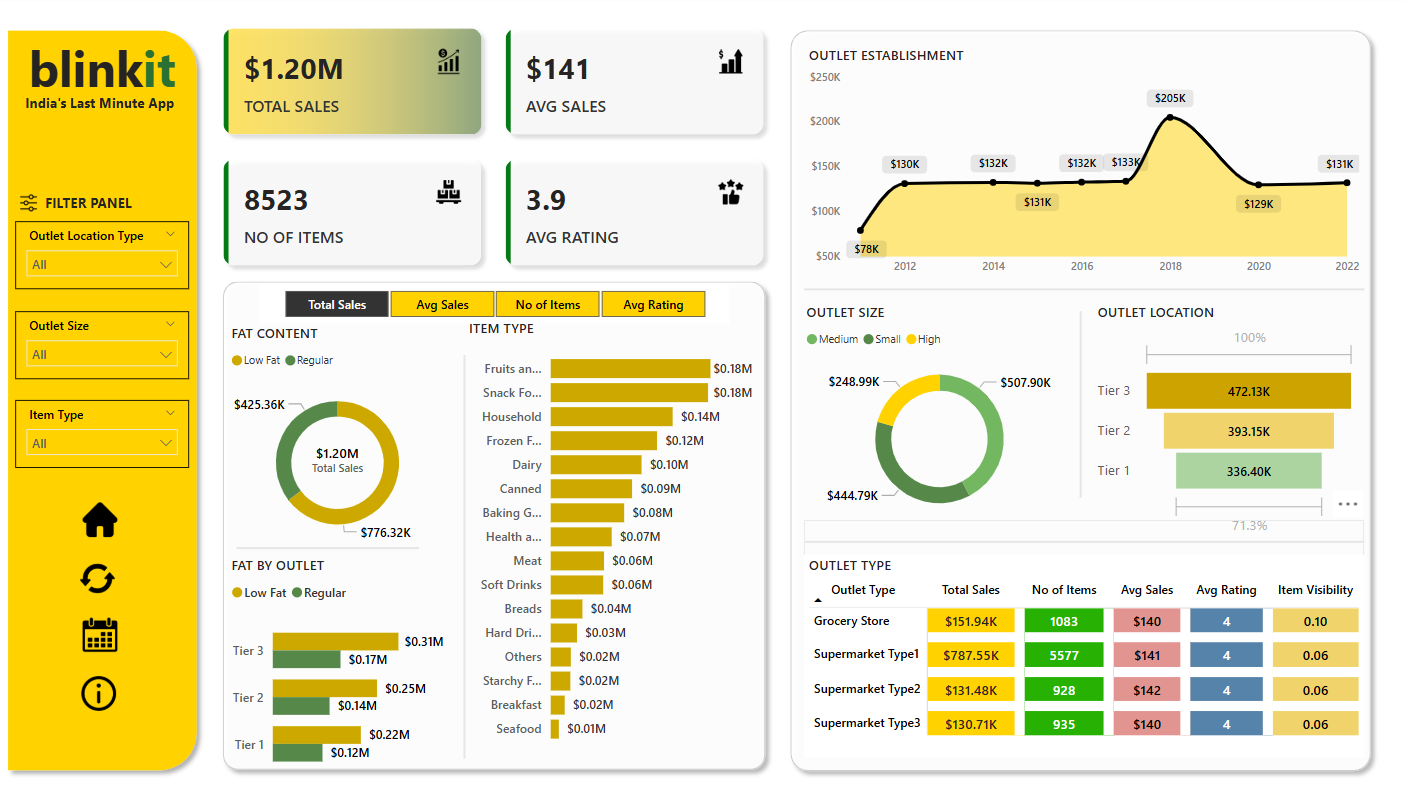

The dashboard page shown, as its layout file describes it:
{"tool":"powerbi","page":{"name":"Page 1","canvas":[1400,800],"ordinal":0},"visuals":[{"type":"shape","box":[0,25.4,204.8,750.4],"z":0},{"type":"textbox","box":[19.8,34.6,164.5,82.9],"z":1000},{"type":"textbox","box":[21.6,92.8,164.1,48.3],"z":2000},{"type":"cardVisual","fields":{"Data":["BlinkIT Grocery Data.Total Sales","BlinkIT Grocery Data.Avg Sales","BlinkIT Grocery Data.No of Items","BlinkIT Grocery Data.Avg Rating"]},"box":[204.8,16.5,569.8,269.6],"z":3000},{"type":"shape","box":[212.4,274.7,554.5,501.1],"z":4000},{"type":"donutChart","title":"FAT CONTENT","fields":{"Y":["BlinkIT Grocery Data.Total Sales"],"Category":["BlinkIT Grocery Data.Item Fat Content"]},"box":[225.1,325.6,220,230.2],"z":5000},{"type":"slicer","fields":{"Values":["Metrics.Metrics"]},"box":[256.9,286.2,465.5,39.4],"z":6000},{"type":"cardVisual","fields":{"Data":["BlinkIT Grocery Data.Total Sales"]},"box":[284.9,427.3,101.7,63.6],"z":7000},{"type":"clusteredBarChart","title":"FAT BY OUTLET","fields":{"Y":["BlinkIT Grocery Data.Total Sales"],"Category":["BlinkIT Grocery Data.Outlet Location Type"],"Series":["BlinkIT Grocery Data.Item Fat Content"]},"box":[225.1,554.1,220.2,230.1],"z":8000},{"type":"shape","box":[235.3,525.3,180.6,43.2],"z":9000},{"type":"shape","box":[445.1,356.1,30.5,399.3],"z":10000},{"type":"barChart","title":"ITEM TYPE","fields":{"Y":["BlinkIT Grocery Data.Total Sales"],"Category":["BlinkIT Grocery Data.Item Type"]},"box":[460.1,320.3,290.7,430.4],"z":11000},{"type":"shape","box":[774.5,25.4,592,751],"z":12000},{"type":"lineChart","title":"OUTLET ESTABLISHMENT","fields":{"Y":["BlinkIT Grocery Data.Total Sales"],"Category":["BlinkIT Grocery Data.Outlet Establishment Year"]},"box":[796.2,49.6,554.5,236.6],"z":13000},{"type":"shape","box":[796.2,269.6,554.5,43.2],"z":14000},{"type":"donutChart","title":"OUTLET SIZE","fields":{"Y":["BlinkIT Grocery Data.Total Sales"],"Category":["BlinkIT Grocery Data.Outlet Size"]},"box":[793.6,303.7,273.4,225.1],"z":15000},{"type":"shape","box":[1055.6,312.9,30.5,184.4],"z":16000},{"type":"funnel","title":"OUTLET LOCATION","fields":{"Y":["Sum(BlinkIT Grocery Data.Sales)"],"Category":["BlinkIT Grocery Data.Outlet Location Type"]},"box":[1082.3,303.7,265.8,236.6],"z":17000},{"type":"shape","box":[796.2,518.9,554.5,43.2],"z":18000},{"type":"pivotTable","title":"OUTLET TYPE","fields":{"Rows":["BlinkIT Grocery Data.Outlet Type"],"Values":["BlinkIT Grocery Data.Total Sales","BlinkIT Grocery Data.No of Items","BlinkIT Grocery Data.Avg Sales","BlinkIT Grocery Data.Avg Rating","Avg(BlinkIT Grocery Data.Item Visibility)"]},"box":[796.2,554.5,554.5,200.9],"z":19000},{"type":"slicer","fields":{"Values":["BlinkIT Grocery Data.Outlet Location Type"]},"box":[16.5,223.8,171.7,67.4],"z":20000},{"type":"slicer","fields":{"Values":["BlinkIT Grocery Data.Outlet Size"]},"box":[16.5,312.9,171.7,67.4],"z":21000},{"type":"slicer","fields":{"Values":["BlinkIT Grocery Data.Item Type"]},"box":[16.5,400.6,171.7,67.4],"z":22000},{"type":"textbox","box":[40.7,192,114.5,30.5],"z":23000},{"type":"image","box":[16.5,192,26.7,28],"z":24000},{"type":"image","box":[77.6,497.3,44.5,44.5],"z":25000},{"type":"image","box":[75,555.8,44.5,44.5],"z":26000},{"type":"image","box":[77.6,610.5,44.5,44.5],"z":27000},{"type":"image","box":[76.3,669,44.5,44.5],"z":28000}]}

Visuals, with their boxes in screenshot pixels (x1, y1, x2, y2), scaled from the page's 1400x800 canvas onto the 1407x795 screenshot:
shape: [left=0, top=25, right=206, bottom=771]
textbox: [left=20, top=34, right=185, bottom=117]
textbox: [left=22, top=92, right=187, bottom=140]
cardVisual - BlinkIT Grocery Data.Total Sales x BlinkIT Grocery Data.Avg Sales: [left=206, top=16, right=778, bottom=284]
shape: [left=213, top=273, right=771, bottom=771]
"FAT CONTENT" donutChart: [left=226, top=324, right=447, bottom=552]
slicer - Metrics.Metrics: [left=258, top=284, right=726, bottom=324]
cardVisual - BlinkIT Grocery Data.Total Sales: [left=286, top=425, right=389, bottom=488]
"FAT BY OUTLET" clusteredBarChart: [left=226, top=551, right=448, bottom=779]
shape: [left=236, top=522, right=418, bottom=565]
shape: [left=447, top=354, right=478, bottom=751]
"ITEM TYPE" barChart: [left=462, top=318, right=755, bottom=746]
shape: [left=778, top=25, right=1373, bottom=772]
"OUTLET ESTABLISHMENT" lineChart: [left=800, top=49, right=1357, bottom=284]
shape: [left=800, top=268, right=1357, bottom=311]
"OUTLET SIZE" donutChart: [left=798, top=302, right=1072, bottom=525]
shape: [left=1061, top=311, right=1092, bottom=494]
"OUTLET LOCATION" funnel: [left=1088, top=302, right=1355, bottom=537]
shape: [left=800, top=516, right=1357, bottom=559]
"OUTLET TYPE" pivotTable: [left=800, top=551, right=1357, bottom=751]
slicer - BlinkIT Grocery Data.Outlet Location Type: [left=17, top=222, right=189, bottom=289]
slicer - BlinkIT Grocery Data.Outlet Size: [left=17, top=311, right=189, bottom=378]
slicer - BlinkIT Grocery Data.Item Type: [left=17, top=398, right=189, bottom=465]
textbox: [left=41, top=191, right=156, bottom=221]
image: [left=17, top=191, right=43, bottom=219]
image: [left=78, top=494, right=123, bottom=538]
image: [left=75, top=552, right=120, bottom=597]
image: [left=78, top=607, right=123, bottom=651]
image: [left=77, top=665, right=121, bottom=709]
